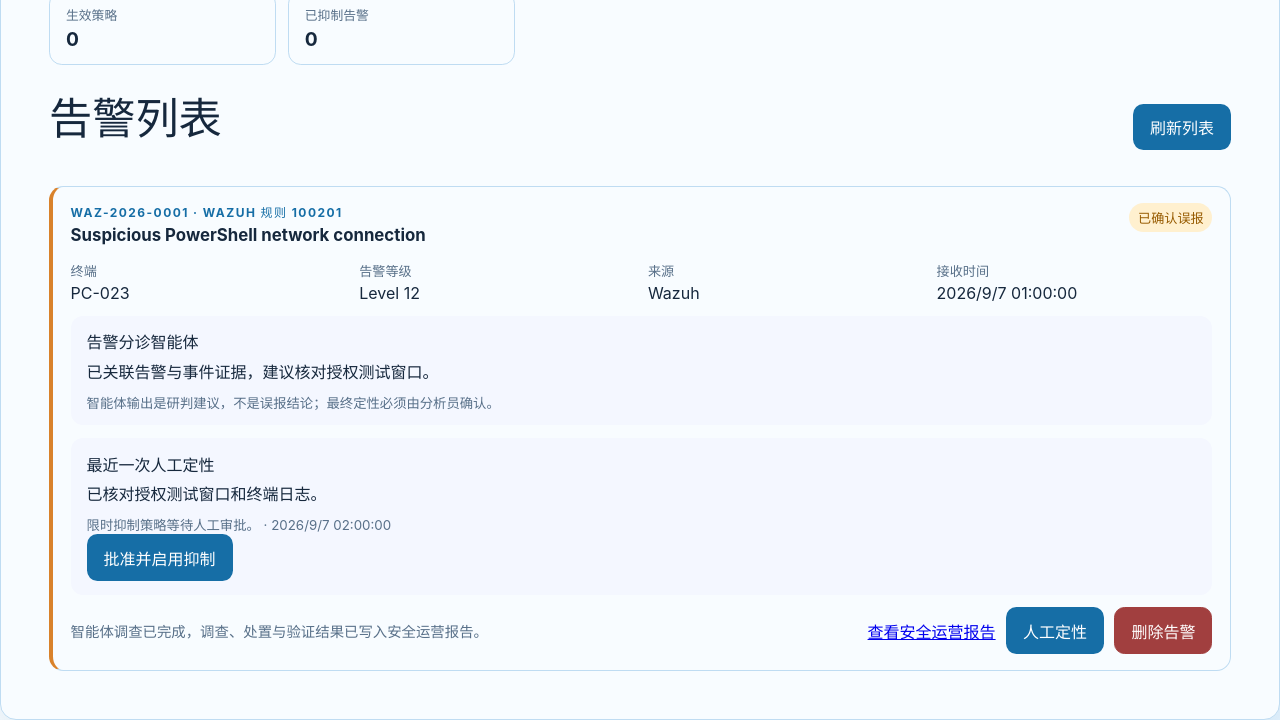
Test: AlertsPage false-positive governance › shows agent evidence, human disposition, metrics, and an approval step
(page scrolled)
Expected: the text "已确认误报" is shown, [1129,203,1212,232]
Expected: the text "告警分诊智能体" is shown, [87,332,199,352]
Click the button "人工定性".
click(1055, 631)  # box [1006,607,1104,654]
(page scrolled)
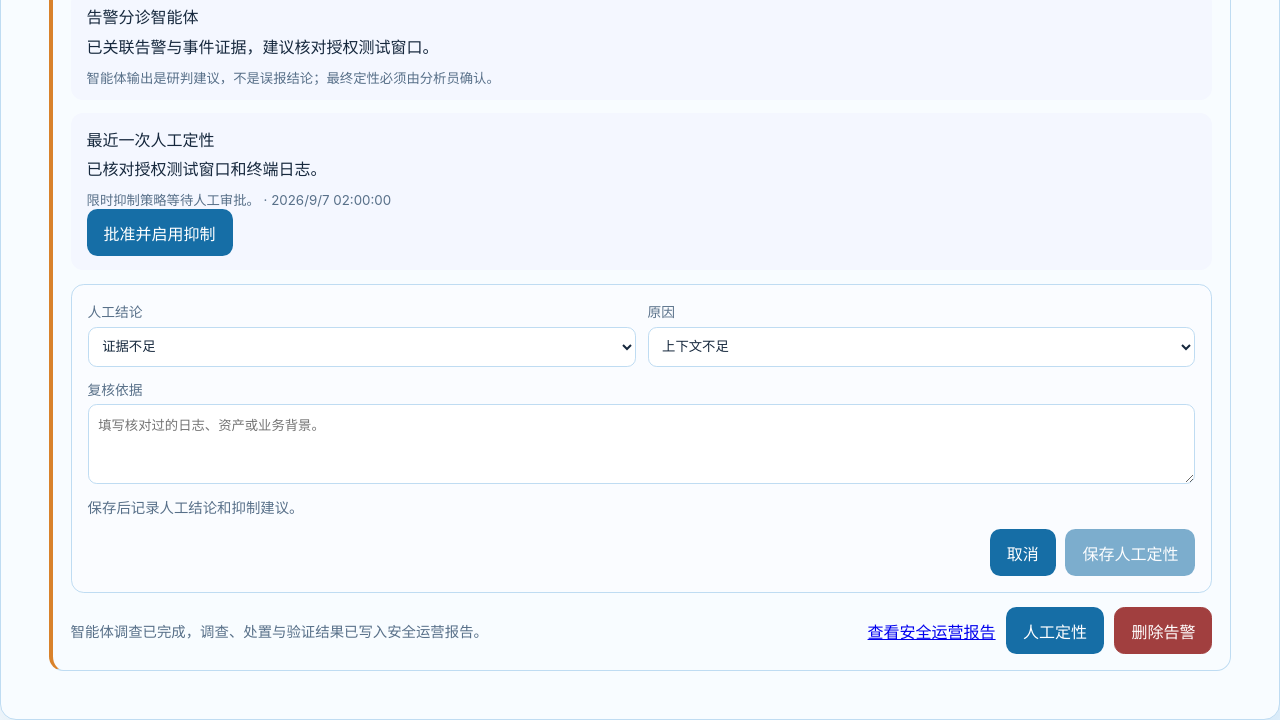
Expected: the dropdown labelled "人工结论" is shown, [88,327,636,367]
Expected: the text "保存后记录人工结论和抑制建议。" is shown, [88,499,304,516]
Expected: the button "保存人工定性" is disabled, [1065,529,1195,576]
Type "哈哈" into the text box labelled "复核依据".
click(642, 444); type("哈哈")  # box [88,404,1195,484]
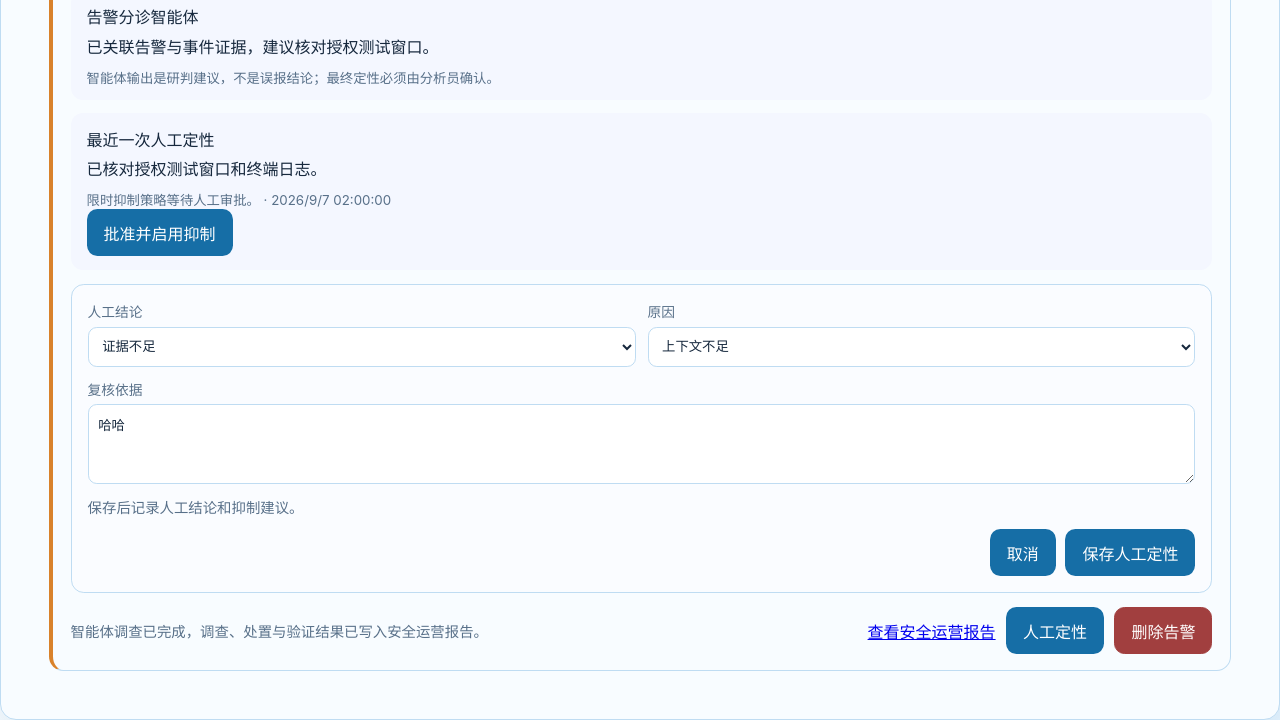
Expected: the button "保存人工定性" is enabled, [1065,529,1195,576]
